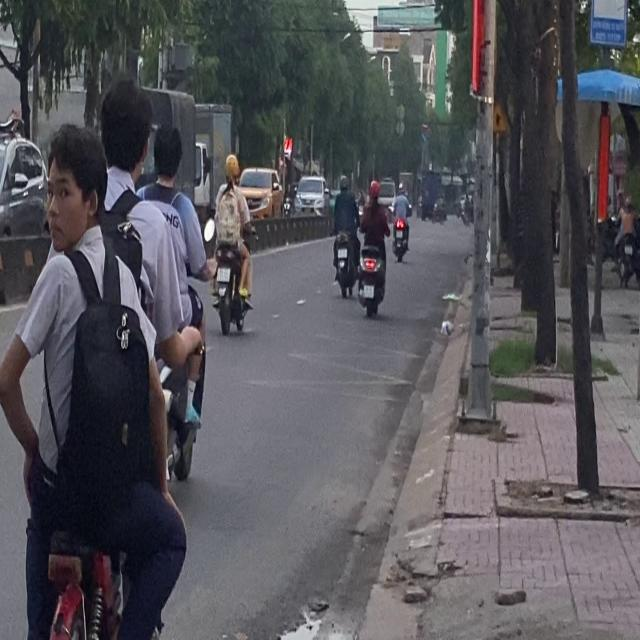licenseplate: (0, 68, 195, 639)
motorcyclist: (44, 122, 107, 254), (96, 73, 155, 188)
